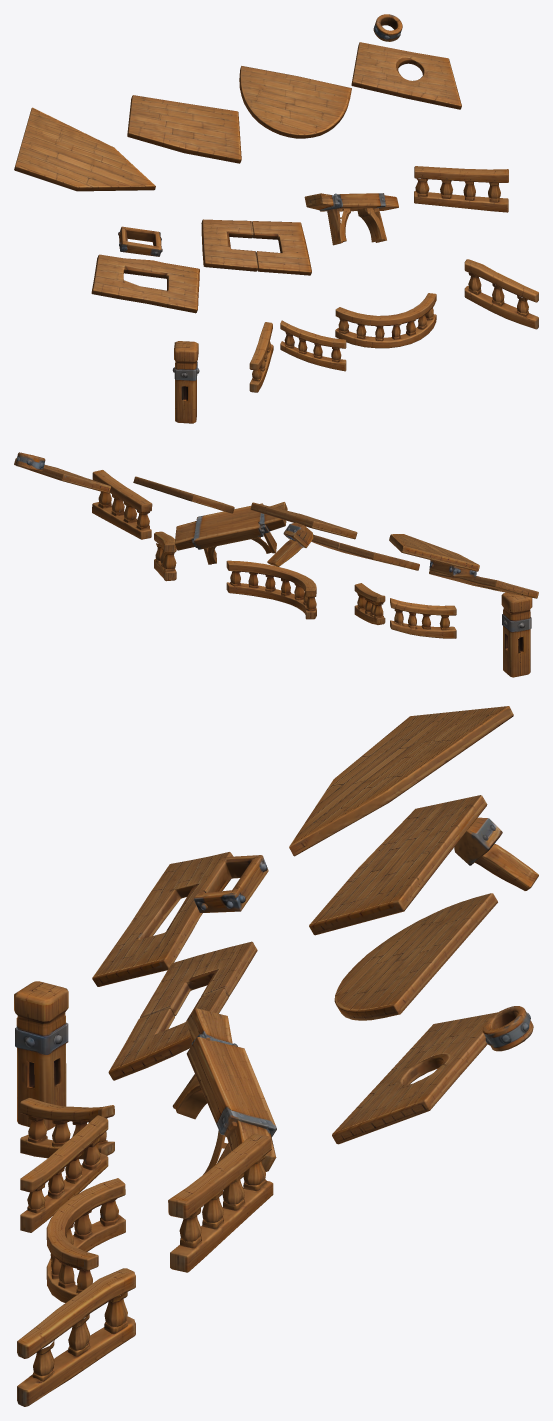
Rendered from deck.glb.
3 renders of one model, top to bottom at view 1: azimuth 30°, elevation 25°; view 2: azimuth 150°, elevation 25°; view 3: azimuth 270°, elevation 25°, orthographic. The views are drawn at different scales.
Visible parts, largest first — view 1: tripo_6bed419b_db6d_4e4a_95ed_801021b1895b; view 2: tripo_6bed419b_db6d_4e4a_95ed_801021b1895b; view 3: tripo_6bed419b_db6d_4e4a_95ed_801021b1895b.
Boxes of the visible parts, box(x1,y1,x2,y2) form: tripo_6bed419b_db6d_4e4a_95ed_801021b1895b: box(14, 14, 538, 423); tripo_6bed419b_db6d_4e4a_95ed_801021b1895b: box(14, 452, 538, 677); tripo_6bed419b_db6d_4e4a_95ed_801021b1895b: box(14, 706, 538, 1406).
Bounding box in the file's own units: 0.9995 × 0.4927 × 0.5806.
1 material, 1 textured.
